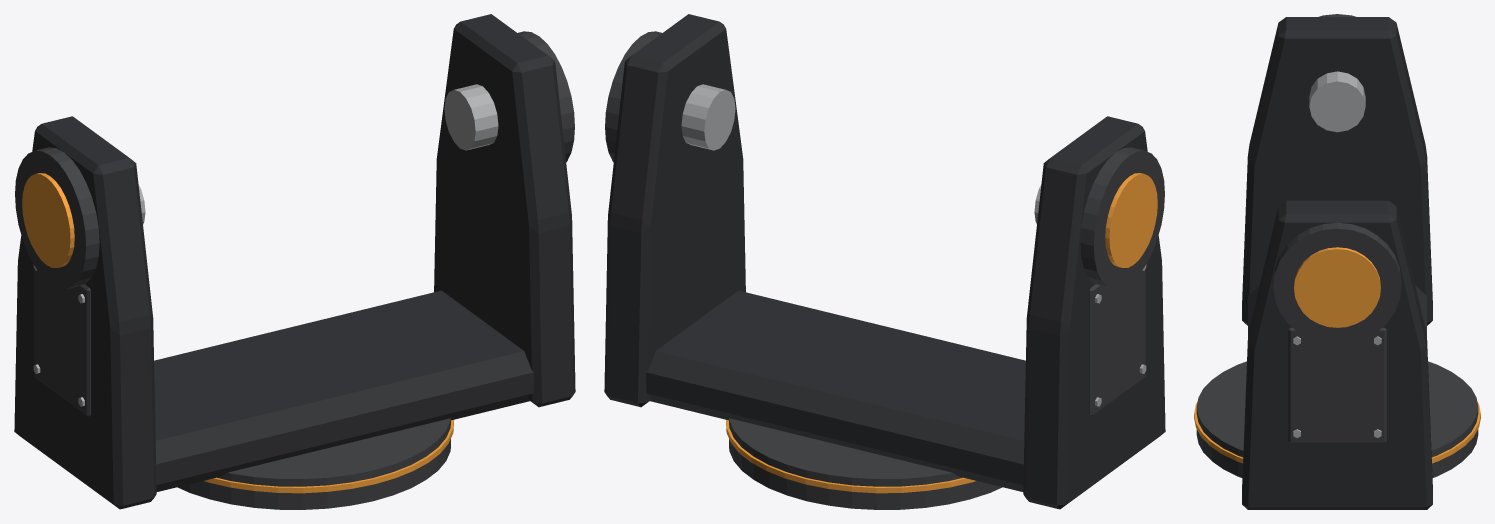
File: csc_razor_b1_yoke.obj
The picture shows the model from 3 angles, left to right: view 1: azimuth 30°, elevation 25°; view 2: azimuth 150°, elevation 25°; view 3: azimuth 270°, elevation 25°; orthographic projection. The views are drawn at different scales.
Parts seen in each view (by area): view 1: yoke_csc_2f3033, yoke_csc_3f4043, yoke_csc_f9a238, yoke_csc_adafb1; view 2: yoke_csc_2f3033, yoke_csc_3f4043, yoke_csc_f9a238, yoke_csc_adafb1; view 3: yoke_csc_2f3033, yoke_csc_3f4043, yoke_csc_f9a238, yoke_csc_adafb1.
Boxes of the visible parts, box(x1,y1,x2,y2) form: yoke_csc_2f3033: box(14, 14, 575, 509); yoke_csc_3f4043: box(15, 31, 574, 509); yoke_csc_f9a238: box(22, 173, 453, 493); yoke_csc_adafb1: box(33, 84, 498, 406); yoke_csc_2f3033: box(604, 14, 1165, 509); yoke_csc_3f4043: box(605, 31, 1164, 509); yoke_csc_f9a238: box(726, 173, 1157, 493); yoke_csc_adafb1: box(681, 84, 1146, 406); yoke_csc_2f3033: box(1242, 17, 1432, 509); yoke_csc_3f4043: box(1196, 14, 1478, 477); yoke_csc_f9a238: box(1194, 247, 1480, 463); yoke_csc_adafb1: box(1293, 71, 1381, 437).
Size of the model in its own units: 0.7874 by 0.5361 by 0.437.
